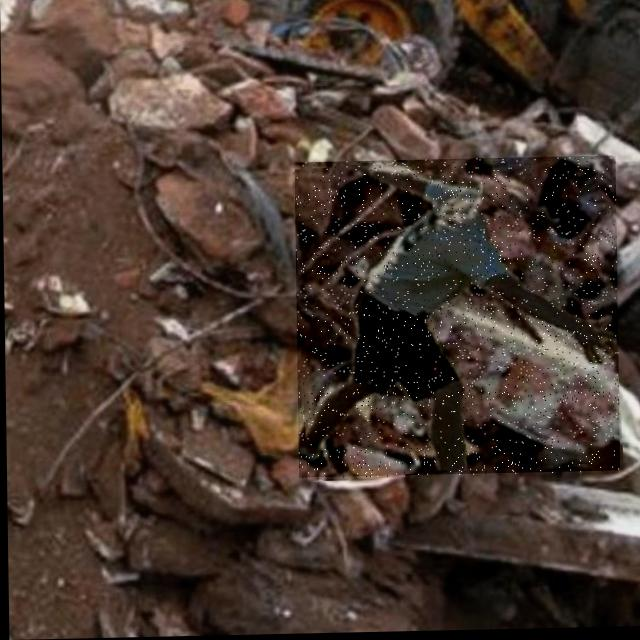Person in Rubble: (294, 159, 619, 480)
